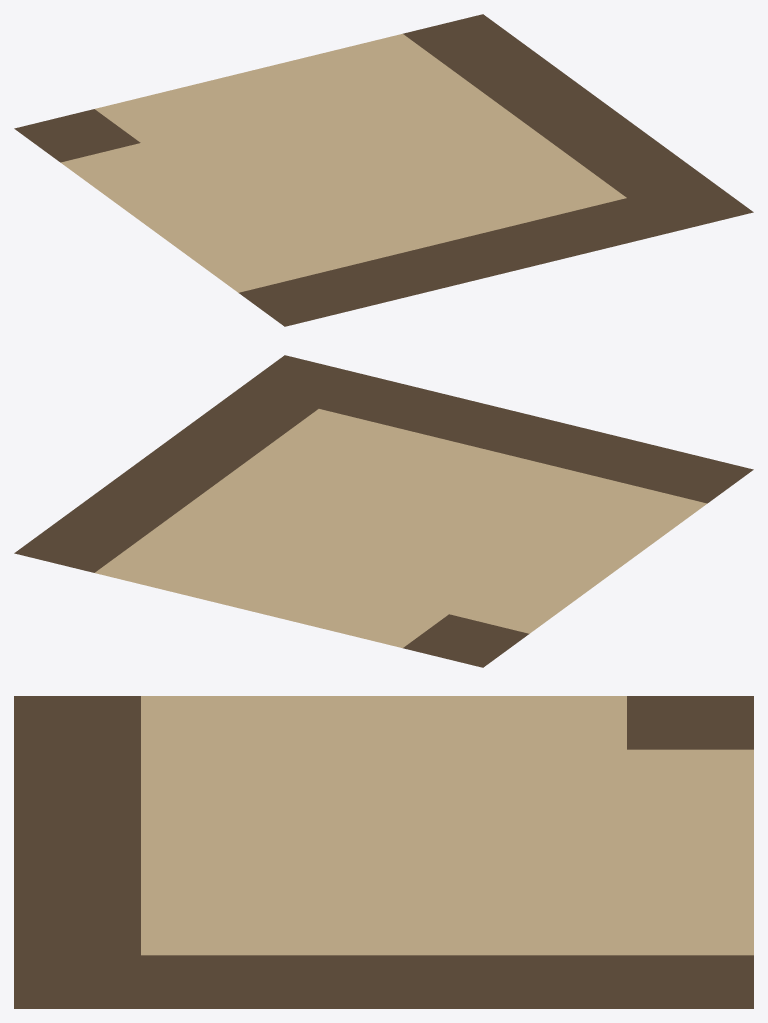
The model's file is M_FloorCrossT700x700Beige100-4_1.fbx.
The picture shows the model from 3 angles, top to bottom: view 1: azimuth 30°, elevation 25°; view 2: azimuth 150°, elevation 25°; view 3: azimuth 270°, elevation 25°; orthographic projection. The views are drawn at different scales.
Visible parts, largest first — view 1: M_FloorCrossT700x700Beige100-4_1; view 2: M_FloorCrossT700x700Beige100-4_1; view 3: M_FloorCrossT700x700Beige100-4_1.
Boxes of the visible parts, x1,y1,x2,y2 form: M_FloorCrossT700x700Beige100-4_1: (14, 14, 753, 326); M_FloorCrossT700x700Beige100-4_1: (14, 355, 753, 667); M_FloorCrossT700x700Beige100-4_1: (14, 696, 753, 1008).
Size of the model in its own units: 700 by 700 by 6.53e-22.
